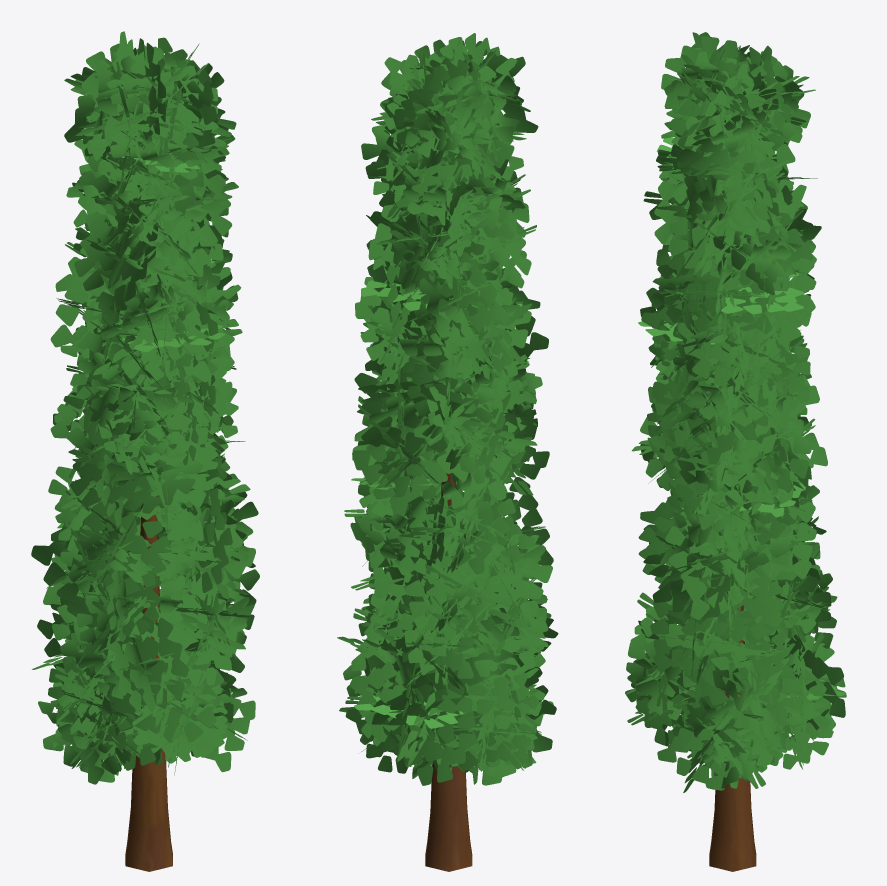
Rendered from st-columnar-3.glb.
3 renders of one model, left to right at view 1: azimuth 30°, elevation 25°; view 2: azimuth 150°, elevation 25°; view 3: azimuth 270°, elevation 25°, orthographic.
Visible parts, largest first — view 1: STColumnar3; view 2: STColumnar3; view 3: STColumnar3.
Part boxes in pixels (<box>): STColumnar3: <box>31,31,259,871</box>; STColumnar3: <box>337,33,558,871</box>; STColumnar3: <box>625,32,846,871</box>.
Size of the model in its own units: 4.25 by 14.51 by 4.19.
Materials: 2 (2 with a texture image).
